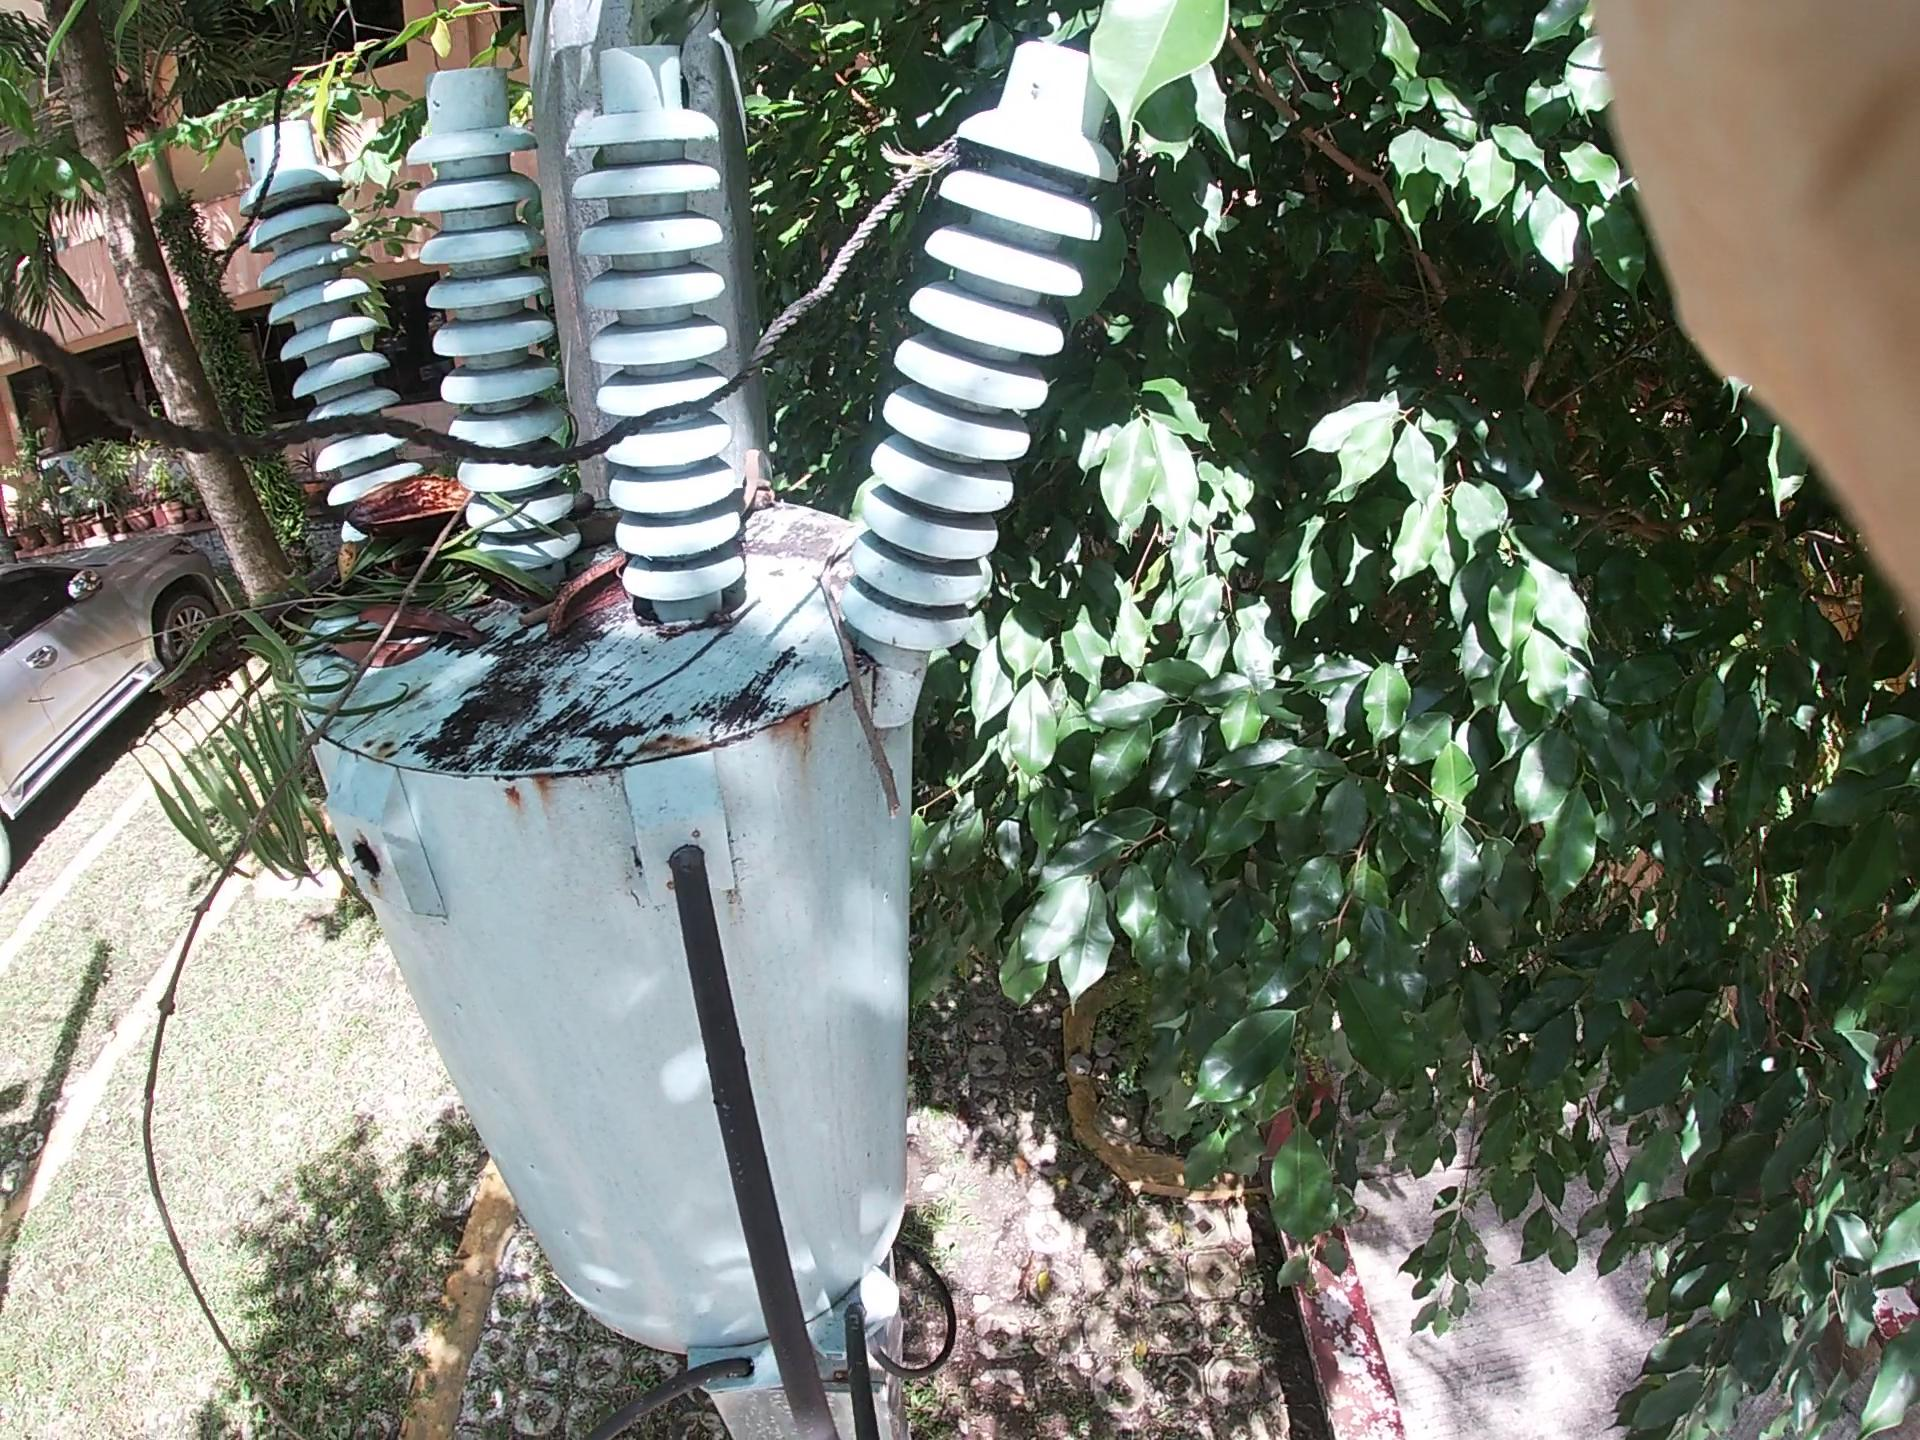branch with leaves: (159, 352, 461, 873)
leaf: (343, 563, 509, 743)
tree branch: (127, 470, 460, 1375), (783, 546, 931, 902), (519, 479, 668, 656)
